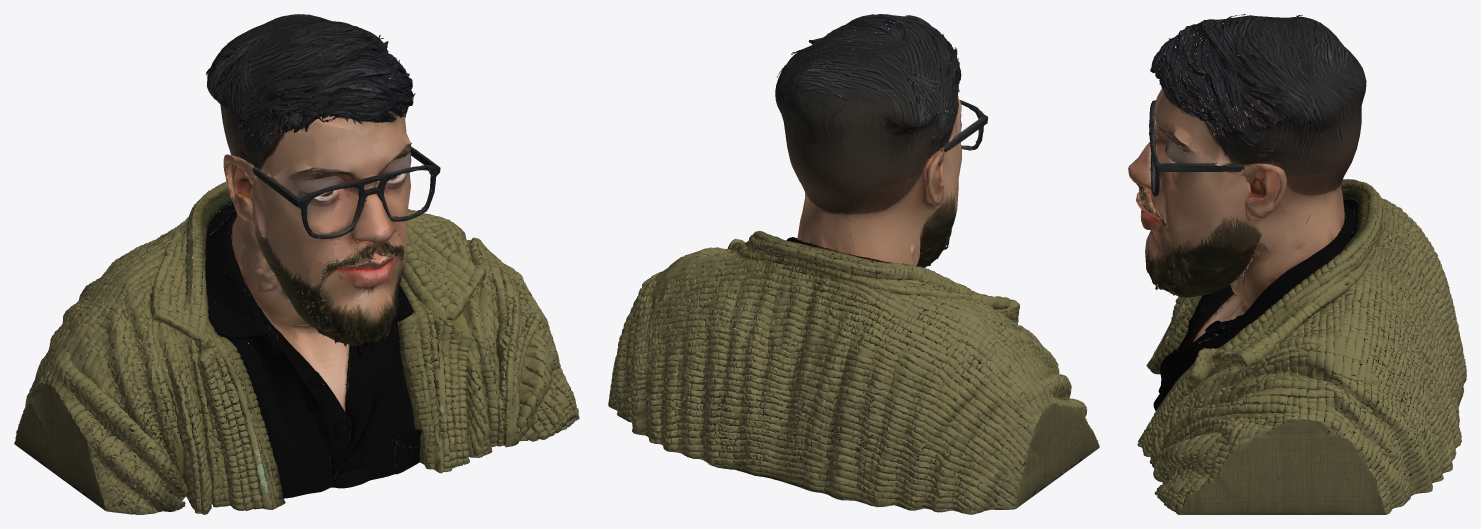
The model's file is avatar.glb.
The picture shows the model from 3 angles, left to right: view 1: azimuth 30°, elevation 25°; view 2: azimuth 150°, elevation 25°; view 3: azimuth 270°, elevation 25°; orthographic projection. The views are drawn at different scales.
Visible parts, largest first — view 1: model; view 2: model; view 3: model.
Boxes of the visible parts, x1,y1,x2,y2 form: model: (14,14,579,514); model: (608,14,1099,514); model: (1128,14,1466,514).
Bounding box in the file's own units: 1.9 × 1.67 × 1.31.
Materials: 1 (1 with a texture image).
